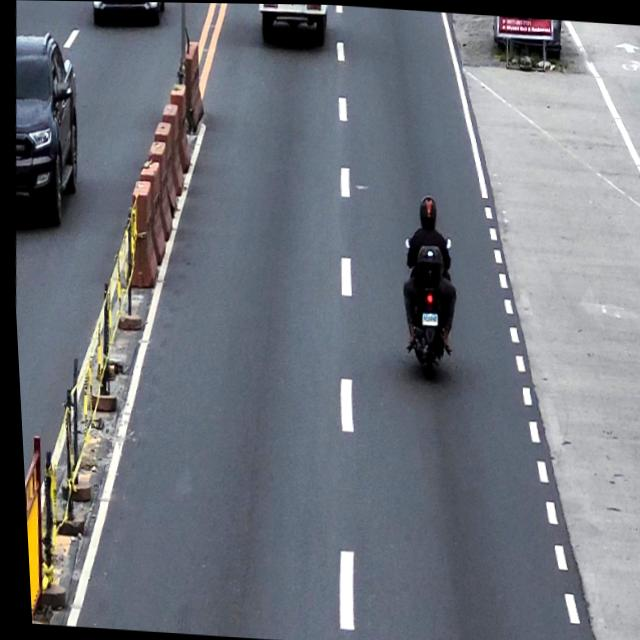License-Plate: (418, 312, 436, 327)
Motorcycle: (395, 230, 455, 379)
